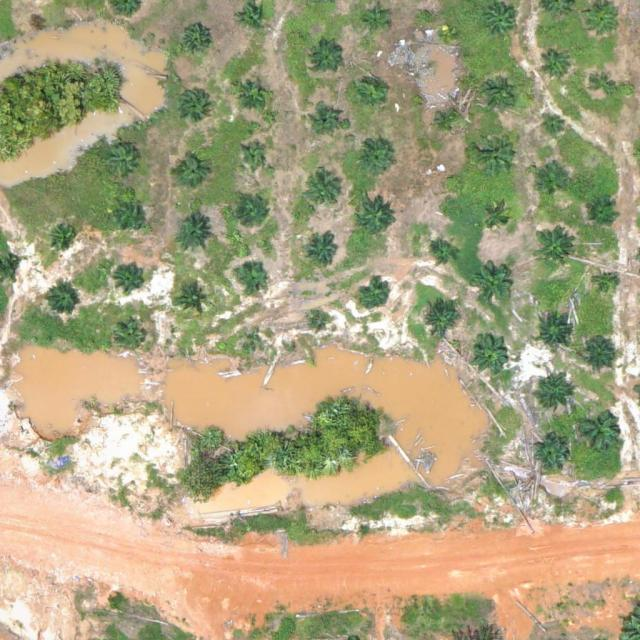Small: (474, 127, 521, 175), (574, 408, 621, 455), (532, 375, 572, 415), (357, 195, 396, 235), (306, 172, 345, 212), (481, 75, 520, 115), (355, 139, 394, 179), (234, 73, 273, 113), (469, 333, 509, 372), (421, 298, 460, 338), (534, 228, 573, 267), (472, 265, 511, 304), (484, 5, 523, 44), (175, 217, 214, 256), (537, 314, 576, 353), (532, 436, 571, 475), (579, 332, 618, 371), (236, 259, 267, 291), (239, 197, 270, 229), (175, 157, 206, 189), (109, 148, 140, 180), (116, 200, 147, 232), (116, 261, 147, 293), (178, 286, 209, 318), (180, 24, 211, 56), (237, 2, 268, 34), (308, 238, 339, 269), (359, 280, 390, 311), (313, 103, 344, 134), (312, 43, 343, 74), (588, 5, 619, 36), (533, 170, 564, 201), (354, 78, 385, 109), (178, 89, 209, 120), (48, 286, 79, 317), (587, 199, 618, 230), (481, 205, 512, 236), (428, 240, 459, 271), (433, 105, 464, 136), (117, 325, 148, 356), (50, 221, 81, 252), (541, 50, 572, 81), (363, 9, 387, 33), (597, 274, 621, 298), (542, 114, 566, 138), (593, 74, 617, 98), (243, 144, 266, 168), (312, 312, 327, 328), (439, 26, 454, 42), (252, 334, 268, 349), (443, 173, 458, 188)
